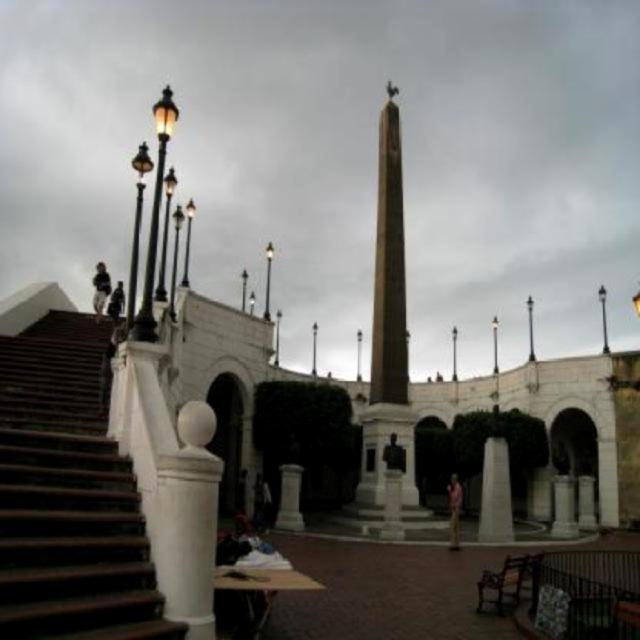stair: (0, 311, 200, 640)
